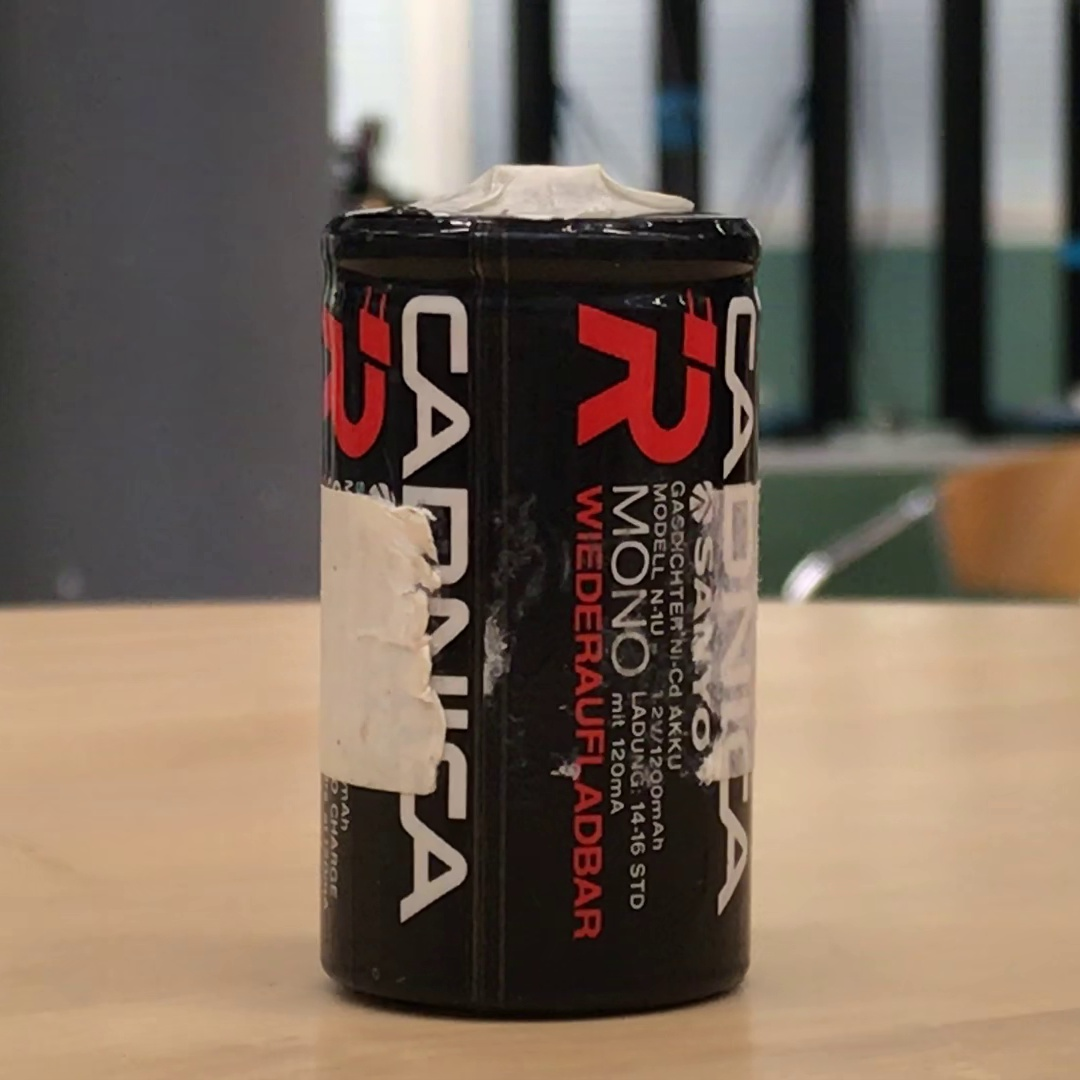keyword: (667, 623, 691, 706)
